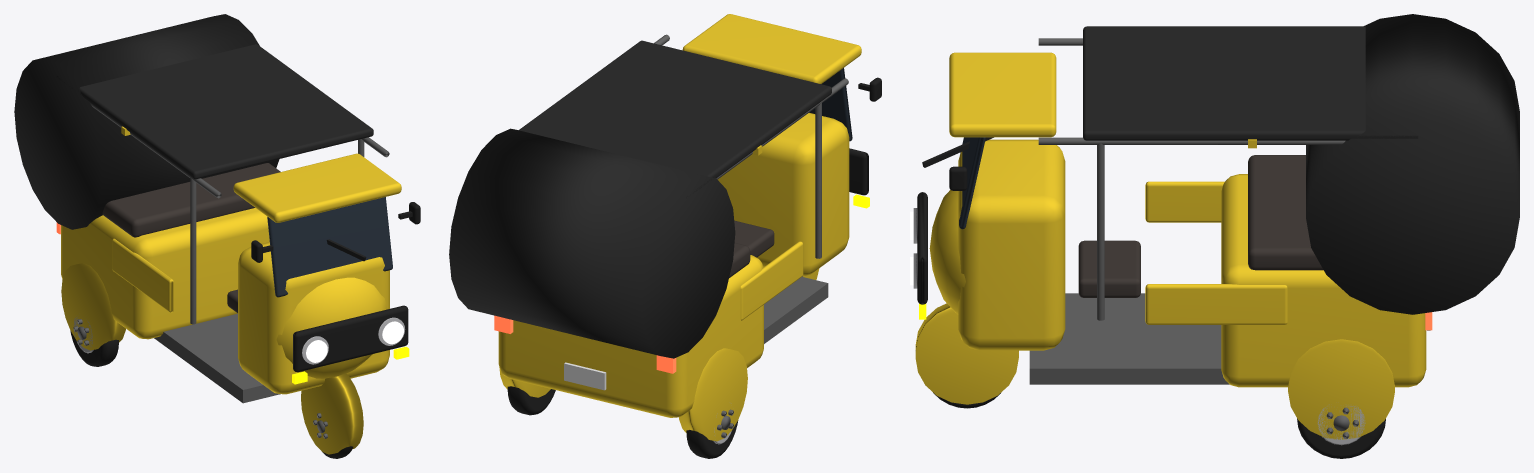
File: keke.glb
The picture shows the model from 3 angles, left to right: view 1: azimuth 30°, elevation 25°; view 2: azimuth 150°, elevation 25°; view 3: azimuth 270°, elevation 25°; orthographic projection. The views are drawn at different scales.
Visible parts, largest first — view 1: V_keke; view 2: V_keke; view 3: V_keke.
Boxes of the visible parts, x1,y1,x2,y2 form: V_keke: (14, 14, 420, 458); V_keke: (449, 14, 881, 458); V_keke: (910, 14, 1519, 458).
Bounding box in the file's own units: 1.53 × 2.1 × 3.42.
